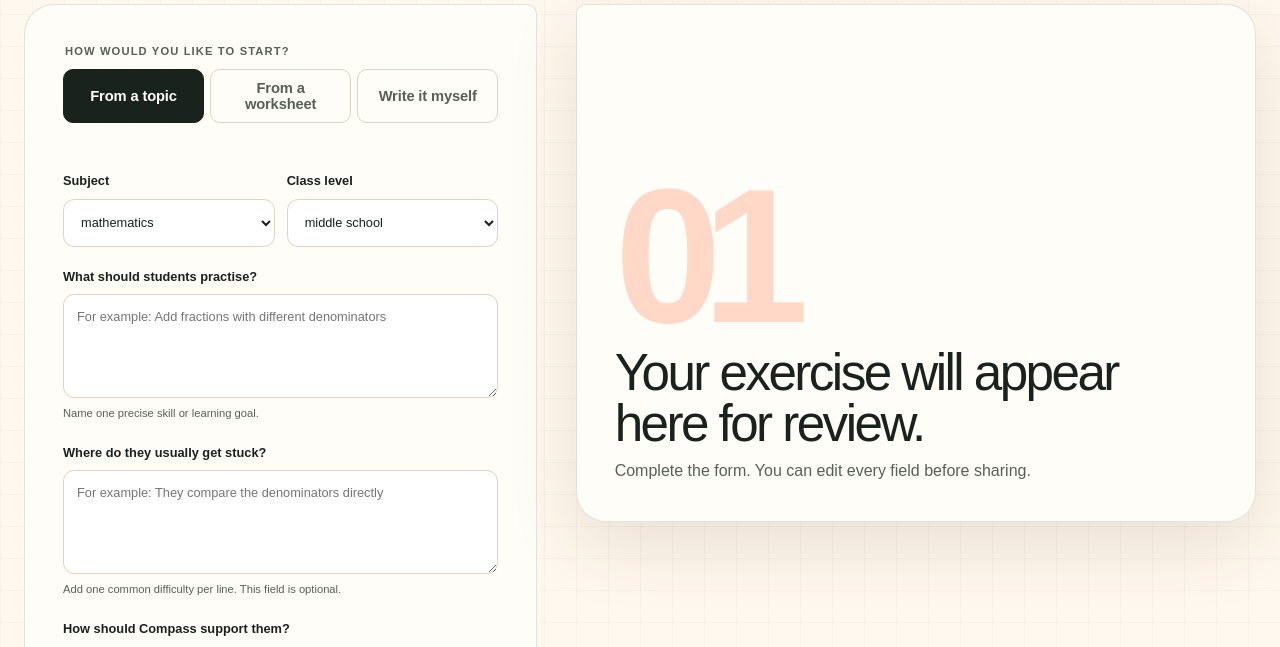
TeacherWorkspace › offers a teacher-friendly fallback when Compass cannot prepare the exercise
(page scrolled)
Type "Fractions" into the text box labelled "What should students practise".
click(281, 346); type("Fractions")  # box x1=63 y1=294 x2=498 y2=398
(page scrolled)
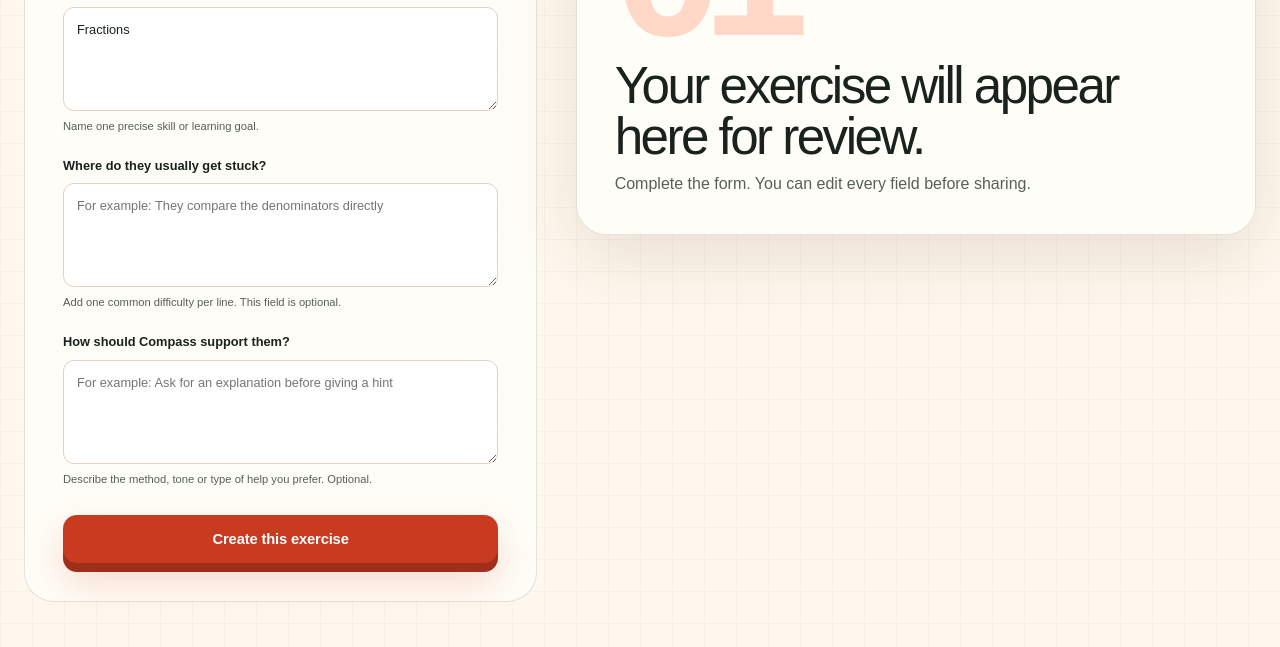
Click the button "Create this exercise".
click(281, 539)  # box x1=63 y1=515 x2=498 y2=563
(page scrolled)
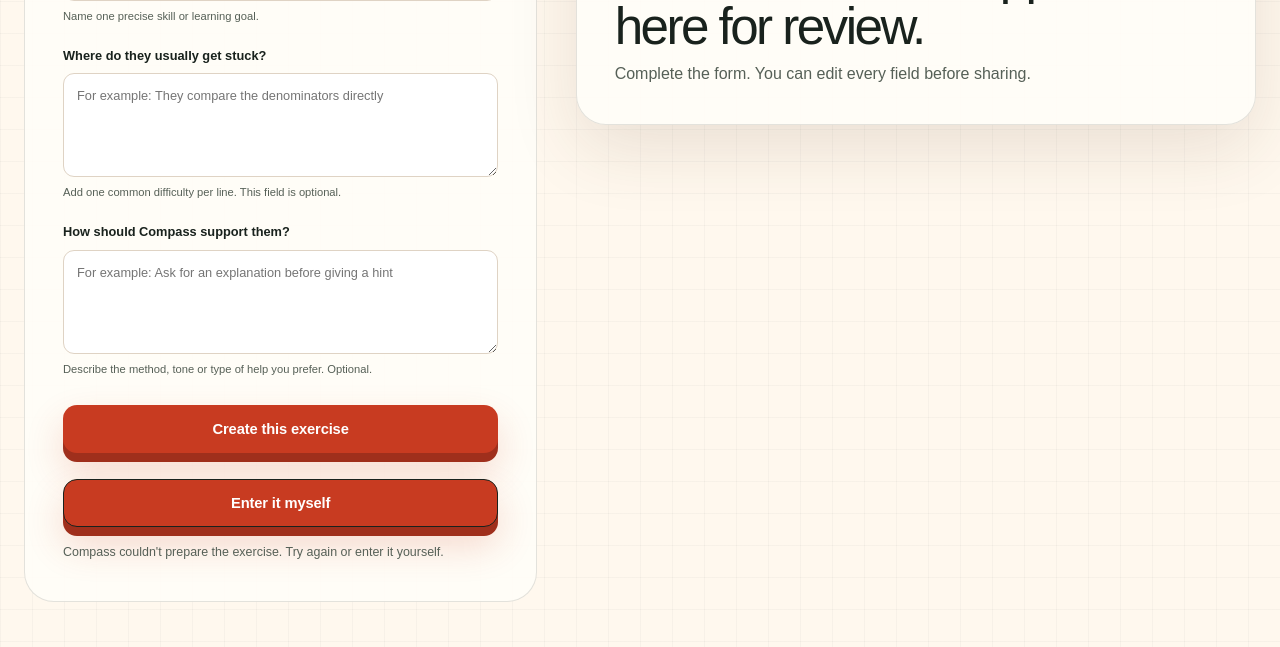
Result: the button "Enter it myself" is shown at x1=63 y1=479 x2=498 y2=527
Result: the text "Compass couldn't prepare the exercise. Try again or enter it yourself." is shown at x1=63 y1=543 x2=498 y2=563
